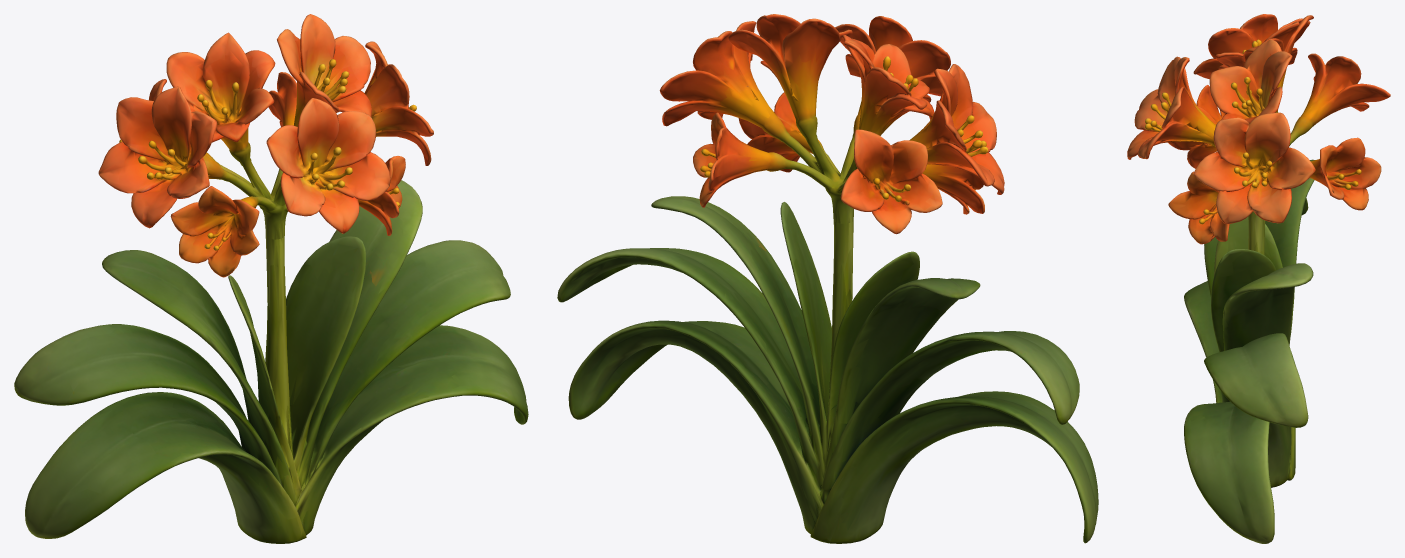
Rendered from clivia.glb.
3 renders of one model, left to right at view 1: azimuth 30°, elevation 25°; view 2: azimuth 150°, elevation 25°; view 3: azimuth 270°, elevation 25°, orthographic. The views are drawn at different scales.
Parts seen in each view (by area): view 1: Base_tripo_node_0d73cf29, Top_tripo_node_0d73cf29; view 2: Base_tripo_node_0d73cf29, Top_tripo_node_0d73cf29; view 3: Top_tripo_node_0d73cf29, Base_tripo_node_0d73cf29.
Part boxes in pixels (<box>): Base_tripo_node_0d73cf29: <box>14,180,528,543</box>; Top_tripo_node_0d73cf29: <box>98,14,433,277</box>; Base_tripo_node_0d73cf29: <box>557,196,1098,543</box>; Top_tripo_node_0d73cf29: <box>659,14,1004,234</box>; Top_tripo_node_0d73cf29: <box>1127,14,1390,244</box>; Base_tripo_node_0d73cf29: <box>1184,159,1314,543</box>.
Bounding box in the file's own units: 1.38 × 1.3 × 0.6972.
Materials: 1 (1 with a texture image).
